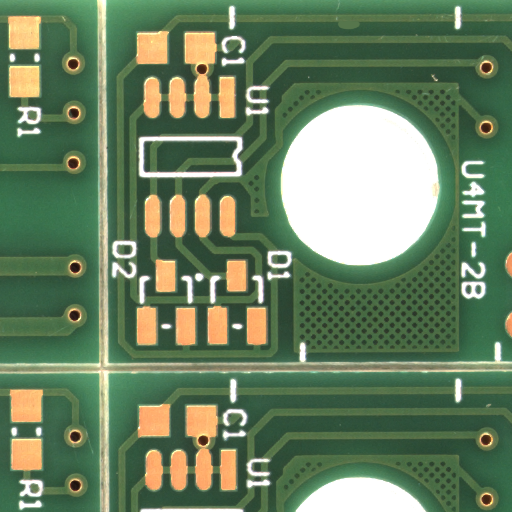Spur: (349, 24, 378, 35)
